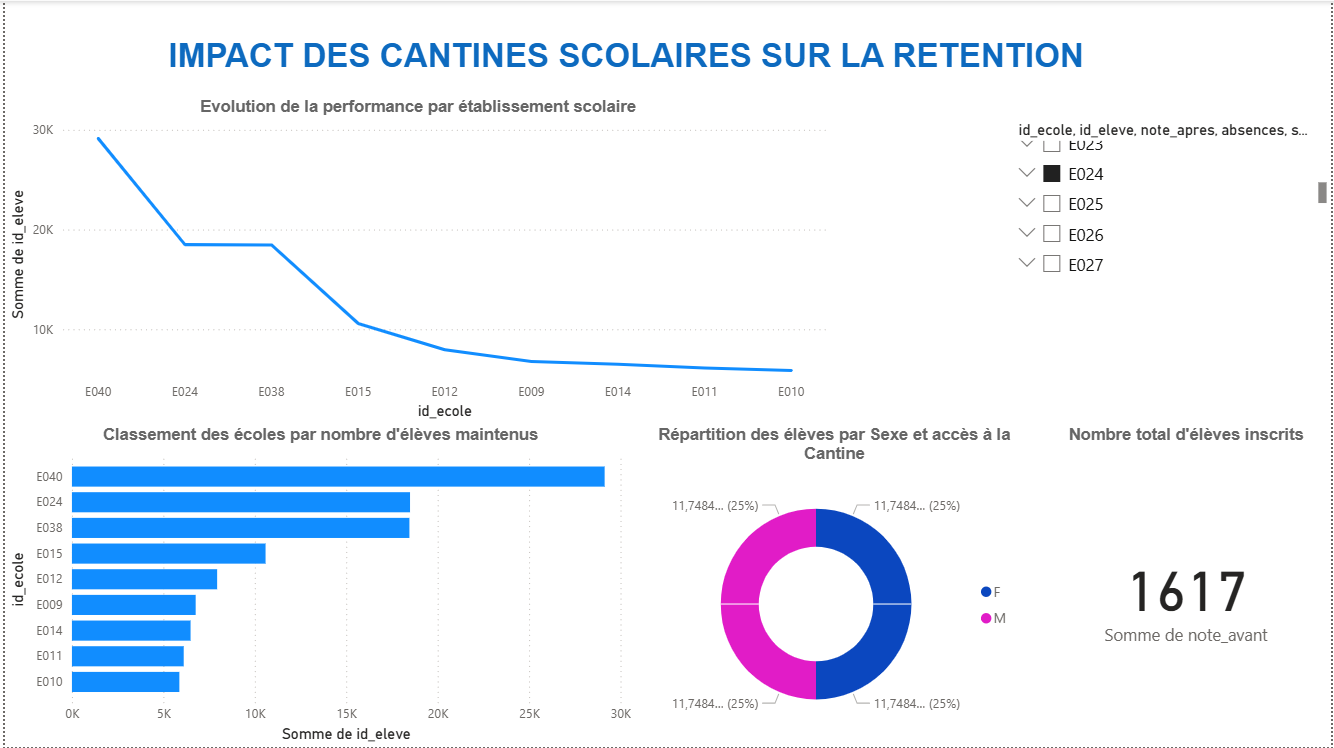

This screenshot's page, from the dashboard's own definition file:
{"tool":"powerbi","page":{"name":"Page 1","canvas":[1280,720],"ordinal":0},"visuals":[{"type":"donutChart","title":"Répartition des élèves par Sexe et accès à la Cantine","fields":{"Category":["eleves_cm2_benin.sexe"],"Y":["Avg(eleves_brut.note_apres)"],"Series":["eleves_cm2_benin.cantine"]},"box":[639.4,409,395.7,311.3],"z":0},{"type":"card","title":"Nombre total d''élèves inscrits","fields":{"Values":["Sum(eleves_brut.note_avant)"]},"box":[1043.6,409,236.5,311.3],"z":1000},{"type":"lineChart","title":"Evolution de la performance par établissement scolaire","fields":{"Category":["eleves_brut.id_ecole"],"Y":["Sum(eleves_brut.id_eleve)"]},"box":[0,92.9,1074.9,316.1],"z":2000},{"type":"barChart","title":"Classement des écoles par nombre d''élèves maintenus","fields":{"Category":["eleves_brut.id_ecole"],"Y":["Sum(eleves_brut.id_eleve)","select"]},"box":[0,409,631,311.3],"z":3000},{"type":"textbox","box":[0,30.2,1199.3,63.1],"z":4000},{"type":"slicer","fields":{"Values":["eleves_brut.id_ecole","eleves_brut.id_eleve","eleves_brut.note_apres","eleves_brut.absences","eleves_brut.sexe","eleves_brut.note_avant","eleves_brut.id_enseignant","eleves_brut.groupe","eleves_brut.departement"]},"box":[1074.9,111,205.1,160.5],"z":5000}]}

Visuals, with their boxes in screenshot pixels (x1, y1, x2, y2), scaled from the page's 1280x720 canvas onto the 1334x748 screenshot:
"Répartition des élèves par Sexe et accès à la Cantine" donutChart: bbox(666, 425, 1079, 747)
"Nombre total d''élèves inscrits" card: bbox(1088, 425, 1333, 747)
"Evolution de la performance par établissement scolaire" lineChart: bbox(0, 97, 1120, 425)
"Classement des écoles par nombre d''élèves maintenus" barChart: bbox(0, 425, 658, 747)
textbox: bbox(0, 31, 1250, 97)
slicer - eleves_brut.id_ecole x eleves_brut.id_eleve: bbox(1120, 115, 1333, 282)
